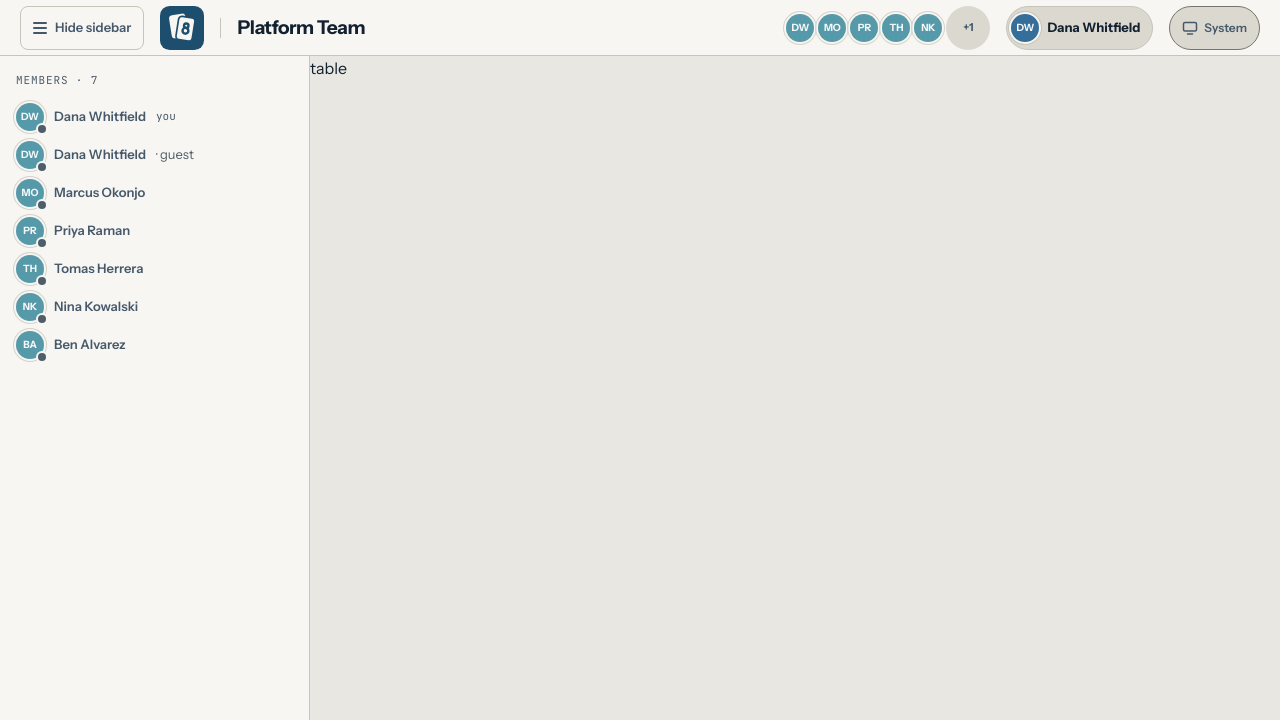
what the sidebar admits it is hiding › tells a link guest from the member whose name they took
The width and height of the screenshot is (1280, 720).
expect the number of buttons "DW Dana Whitfield you" is 2: met, box [12,98,297,134]; [12,136,297,172]
expect the number of buttons "DW Dana Whitfield · guest" is 1: met, box [12,136,297,172]
Click the button named "Show all 7 members" at (968, 28), box [946,6,990,50]
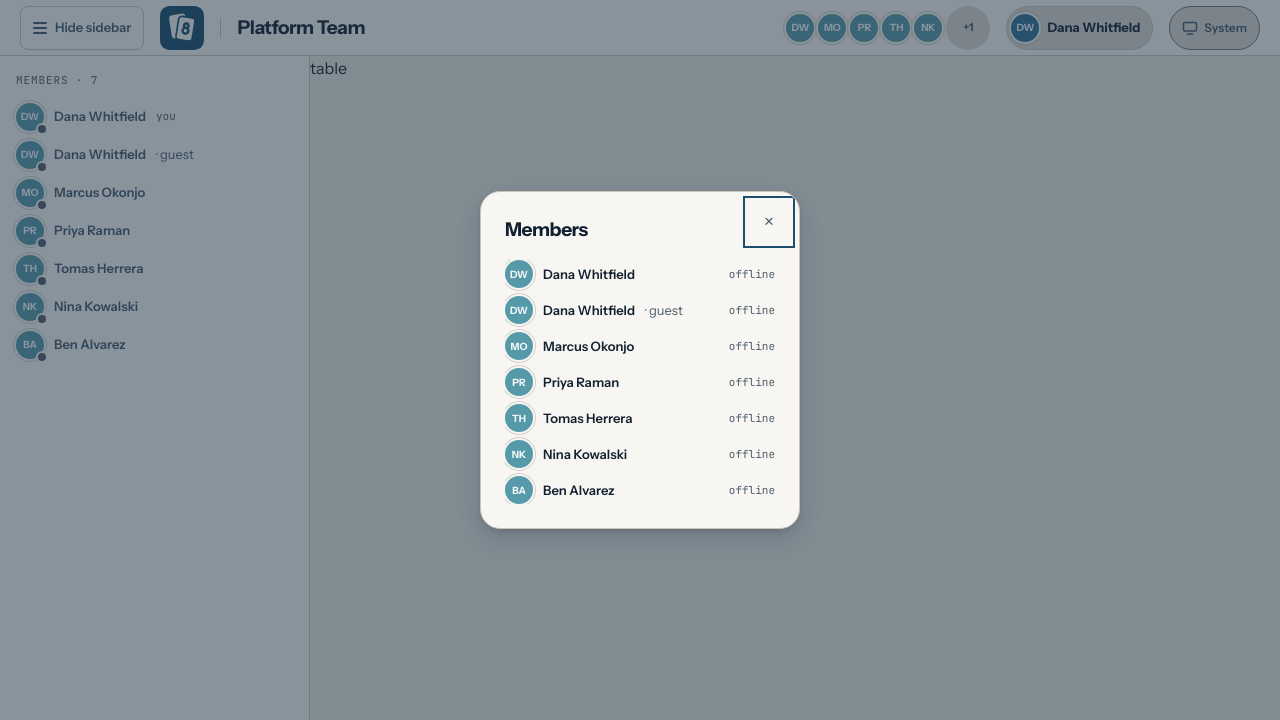
expect the text "Dana Whitfield" is shown 2 times: met, box [543,264,635,284]; [543,300,635,320]
expect the text "· guest" is shown once: met, box [645,300,683,320]
